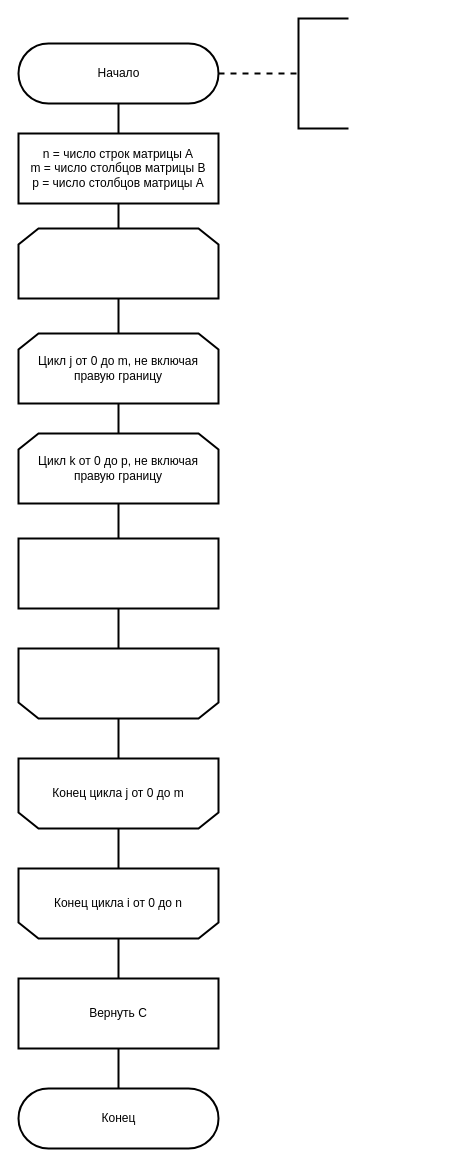
Image size: 473x1166. Some labels were removed from this diagram. The shapes that lost their labels are listed below. From the top down, each one's centre as x and y in pixels, then its label:
At (323,73): "Стандартный алгоритм умножения матриц Вход: матрицы A, B Выход: матрица C".
At (118,263): "Цикл i от 0 до n, не включая правую границу".
At (118,573): "C[i][j] += A[i][k] * B[k][j]".
At (118,683): "Конец цикла k от 0 до p".
